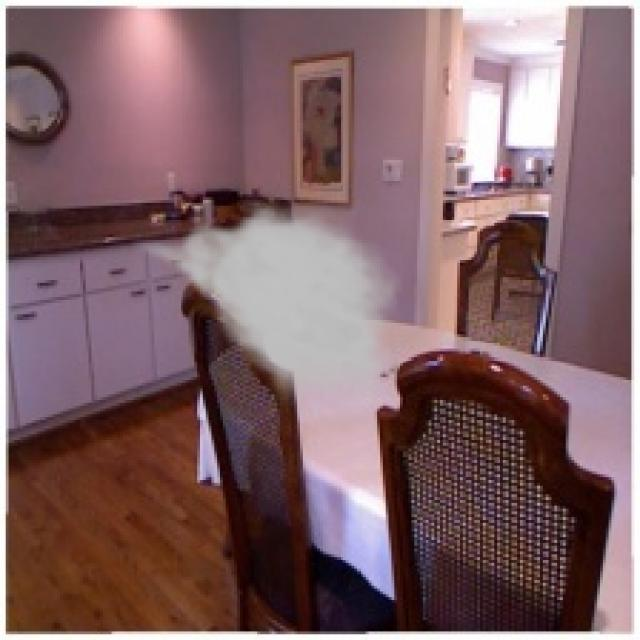smoke: (128, 197, 403, 409)
